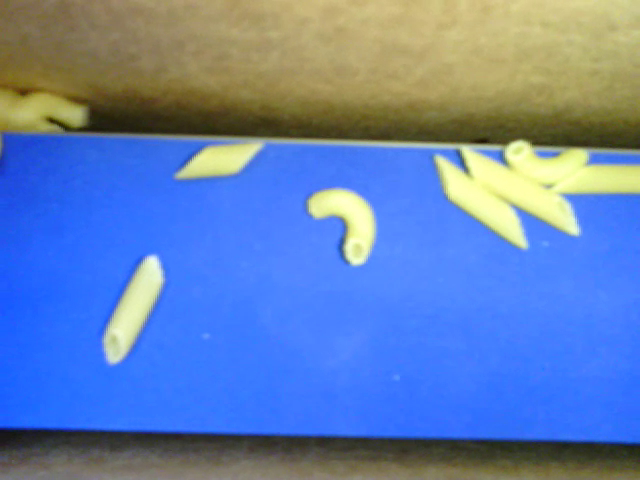elbow: (306, 187, 374, 267), (504, 139, 587, 186), (9, 92, 87, 129)
penne: (460, 146, 580, 234), (434, 152, 530, 251), (102, 254, 167, 366), (173, 143, 263, 182), (544, 163, 639, 195)
shell: (1, 85, 69, 132)
